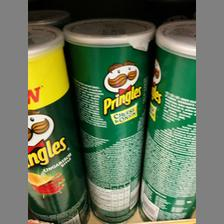Chips: (62, 17, 154, 219), (140, 18, 196, 222), (26, 21, 80, 223)
